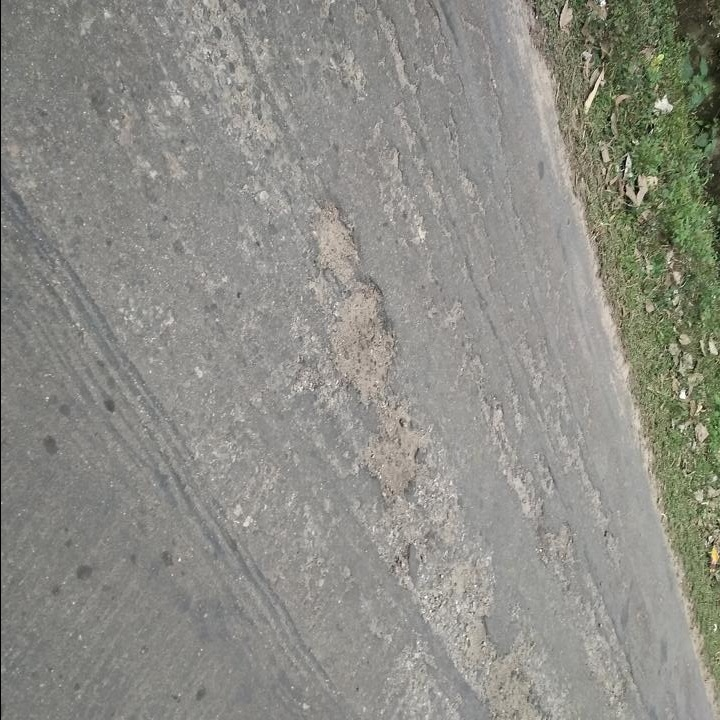pothole: (329, 272, 403, 406), (361, 397, 429, 501), (318, 200, 364, 287), (492, 664, 557, 720)
